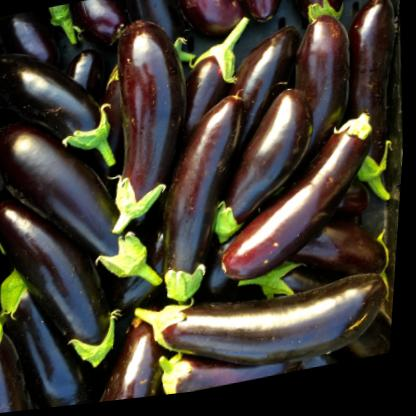eggplant: (0, 95, 181, 324), (128, 267, 399, 400), (209, 118, 386, 295), (93, 0, 205, 252), (0, 174, 130, 389), (148, 89, 271, 314)
